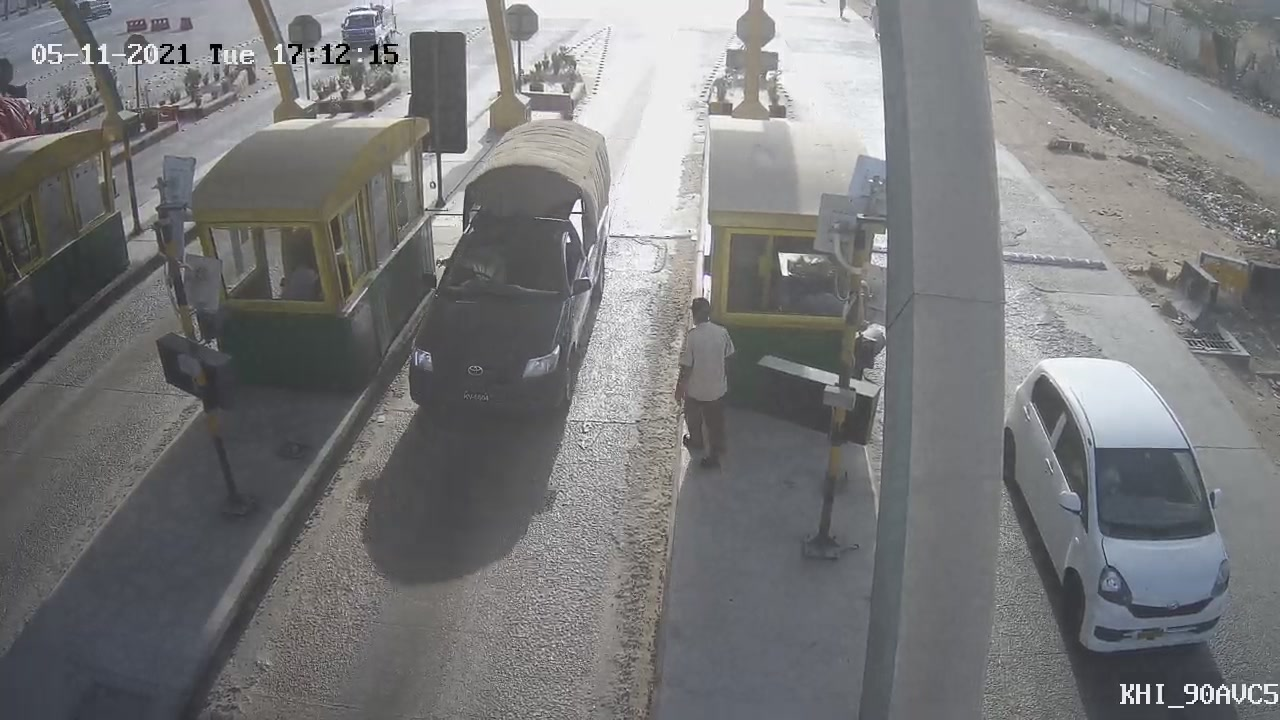F1: (391, 105, 631, 444)
